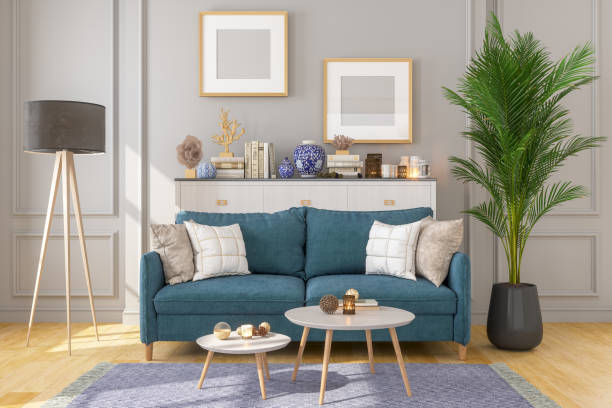floor lamp: (20, 98, 107, 358)
large plant: (445, 14, 607, 351)
sofa: (136, 205, 473, 364)
table: (284, 300, 418, 404), (194, 328, 292, 400)
wall art: (318, 55, 416, 146), (197, 16, 292, 98)
